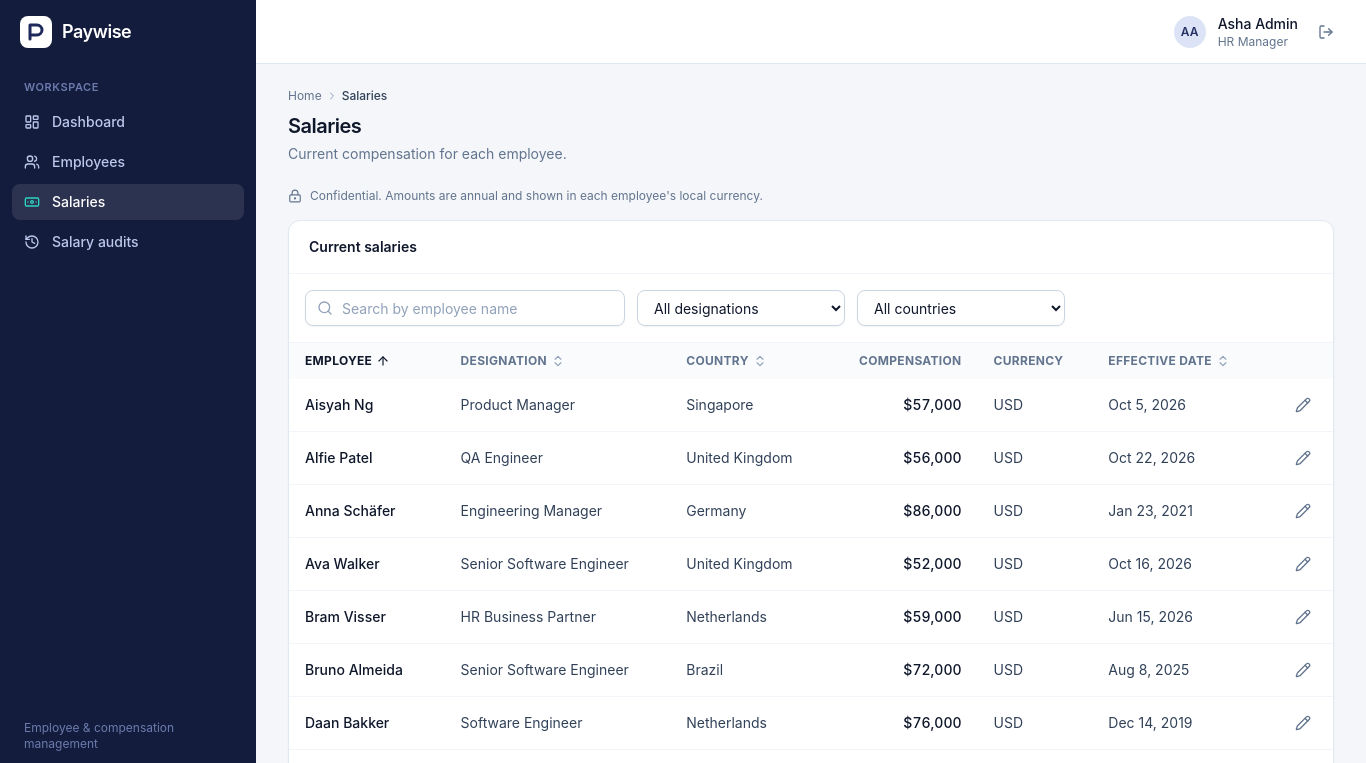
Test: SalariesPage — roles › validates the salary form
Click the button named "Update salary for" at [1303, 405], box [1289,391,1317,419]
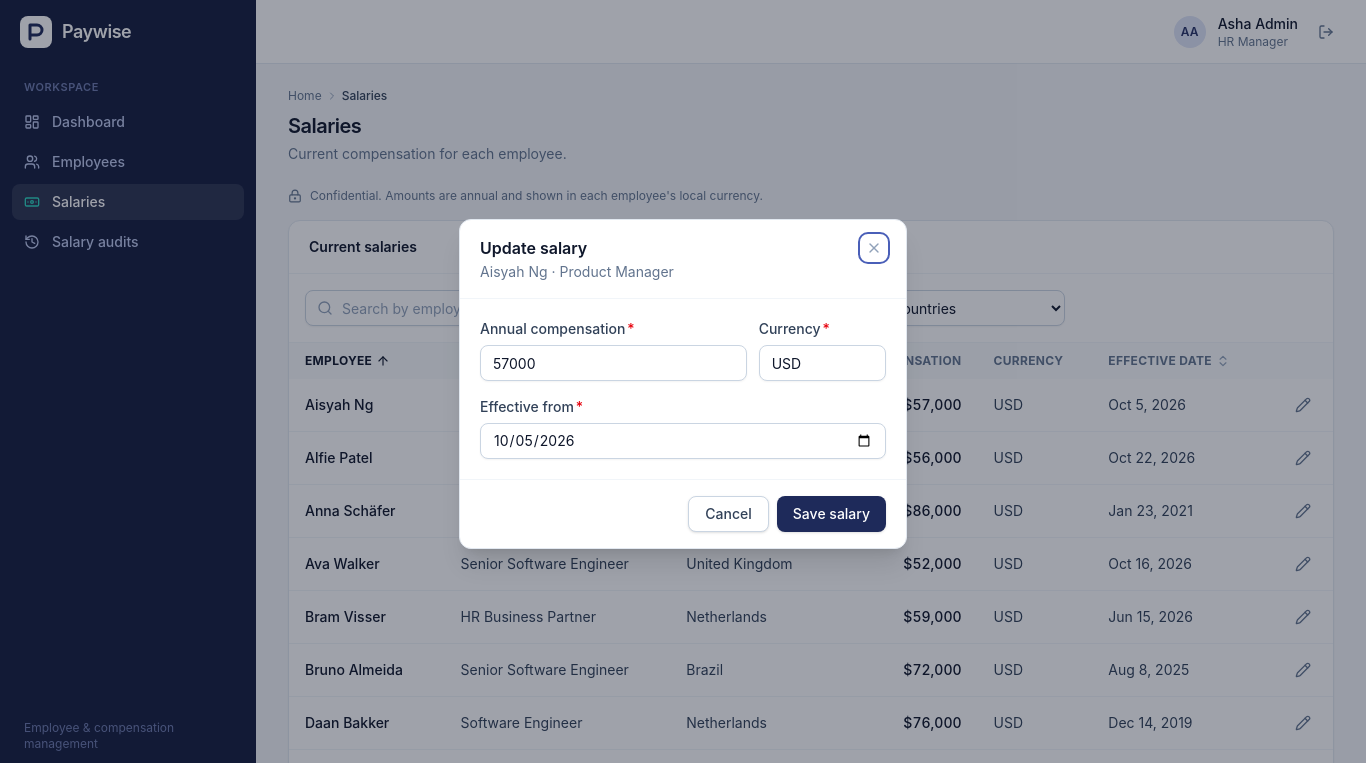
Clear the number field labelled "Annual compensation*" at [613, 363], box [480,345,747,381]
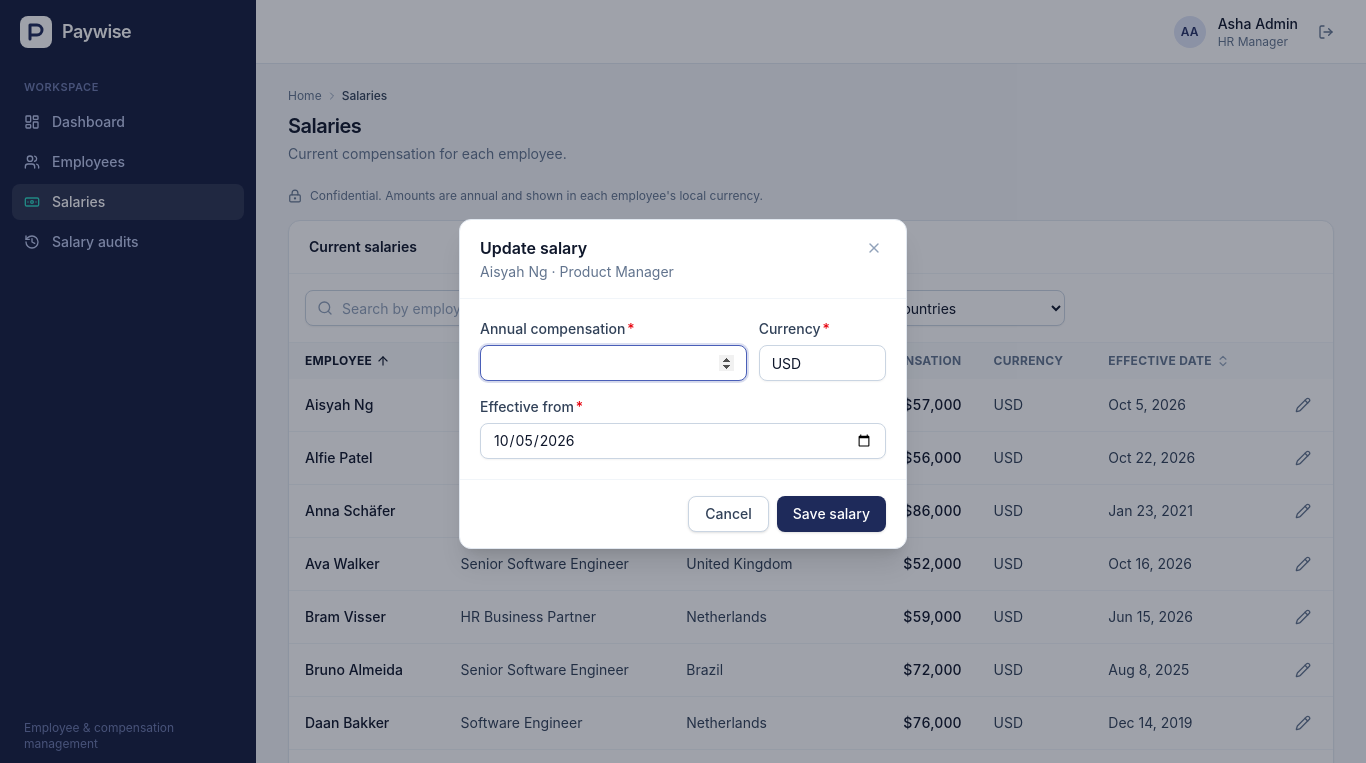
Replace the text in the field labelled "Currency*" with "R1" at [822, 363], box [759,345,886,381]
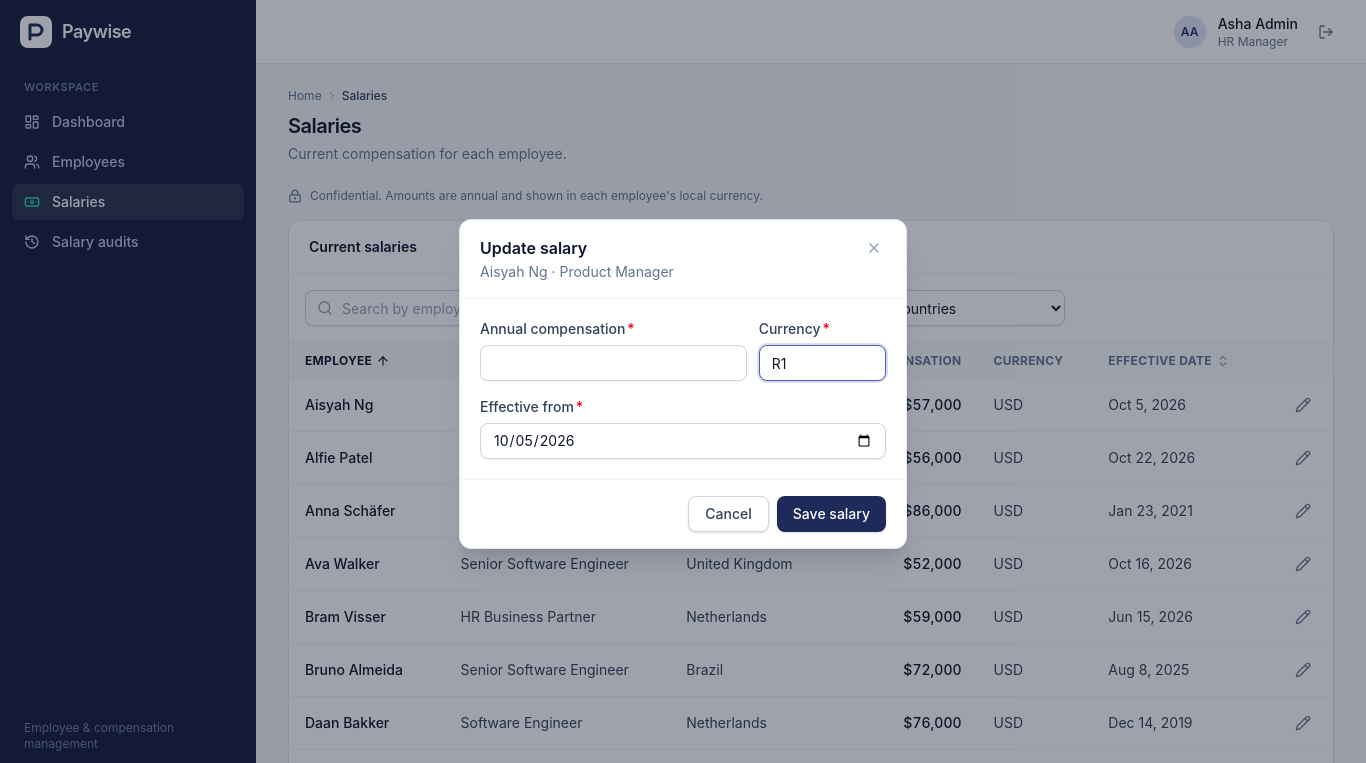
Click the button "Save salary" at [831, 514], box [777,496,886,532]
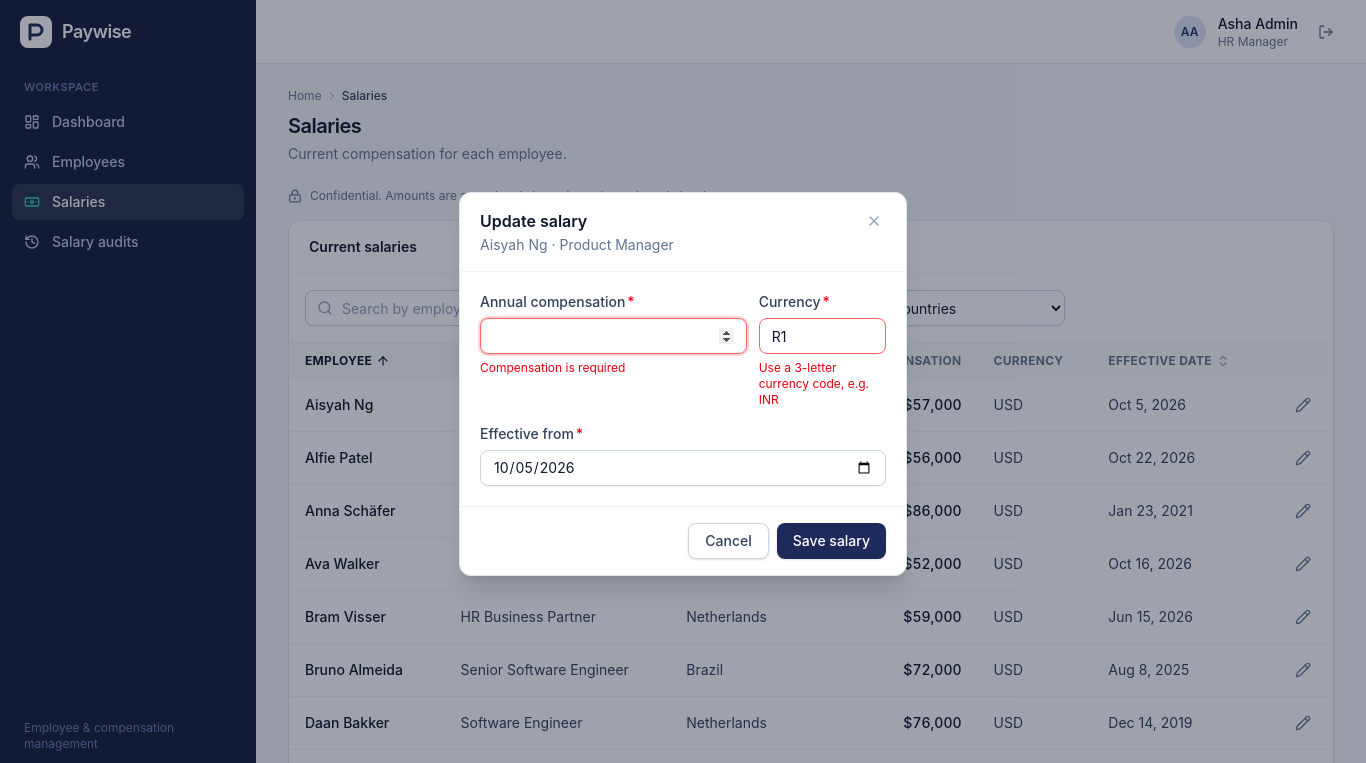
Result: the text "Compensation is required" is shown at [480,360,625,375]
Result: the text "Use a 3-letter currency code, e.g. INR" is shown at [759,360,886,408]
